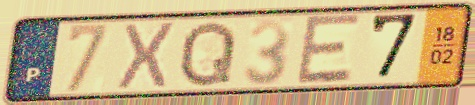3: (242, 17, 294, 87)
7: (64, 22, 115, 95), (369, 12, 420, 84)
E: (294, 12, 364, 88)
Q: (176, 18, 239, 90)
X: (114, 19, 180, 92)
